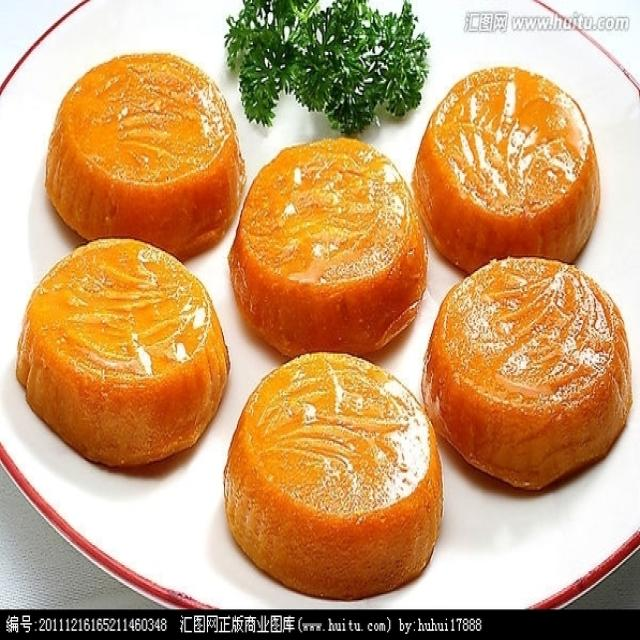炸货点心: (14, 29, 629, 588)
蛋糕甜品: (14, 29, 629, 588)
